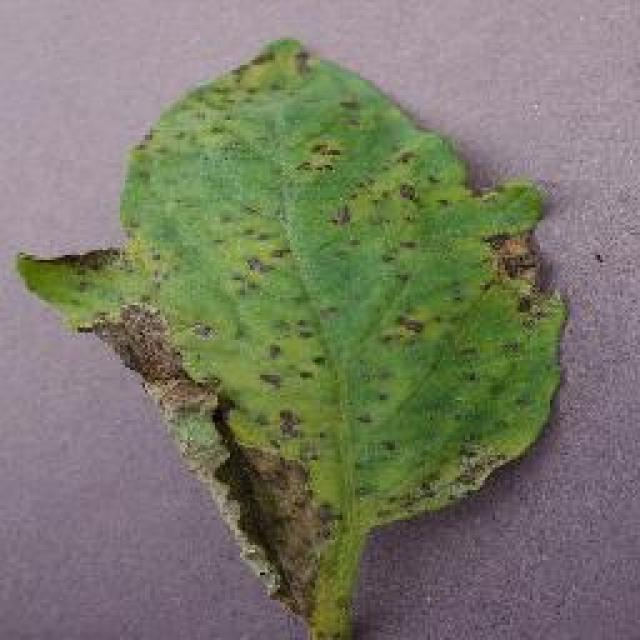Tomato target spot leaf: (15, 38, 570, 622)
